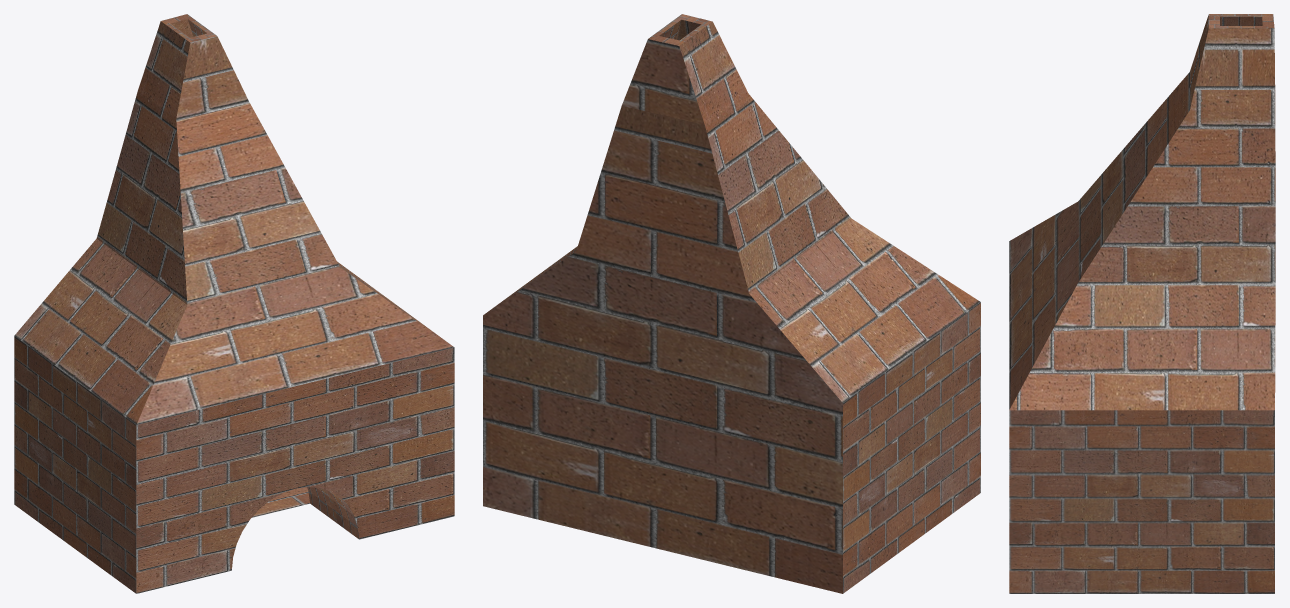
Rendered from Hochofen.obj.
3 views of the same model, side by side, from view 1: azimuth 30°, elevation 25°; view 2: azimuth 150°, elevation 25°; view 3: azimuth 270°, elevation 25° (orthographic). The views are drawn at different scales.
Size of the model in its own units: 1.95 by 2.63 by 1.3.
